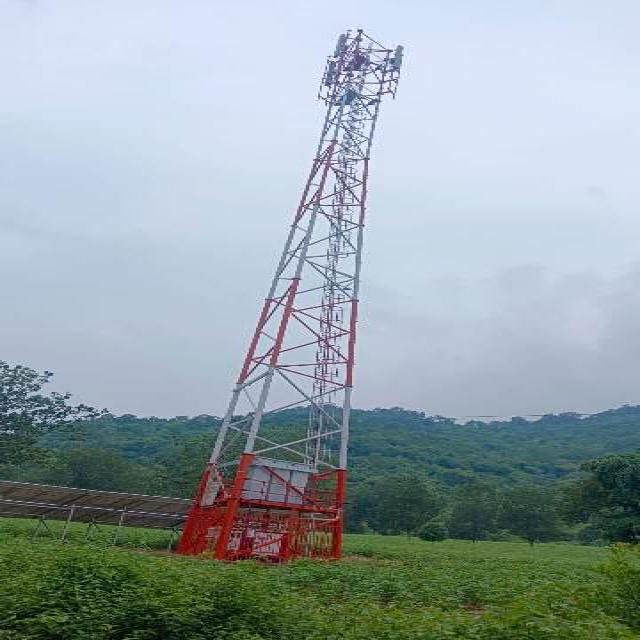GSM Antenna: (391, 43, 410, 76), (325, 59, 338, 88), (334, 32, 347, 59)
